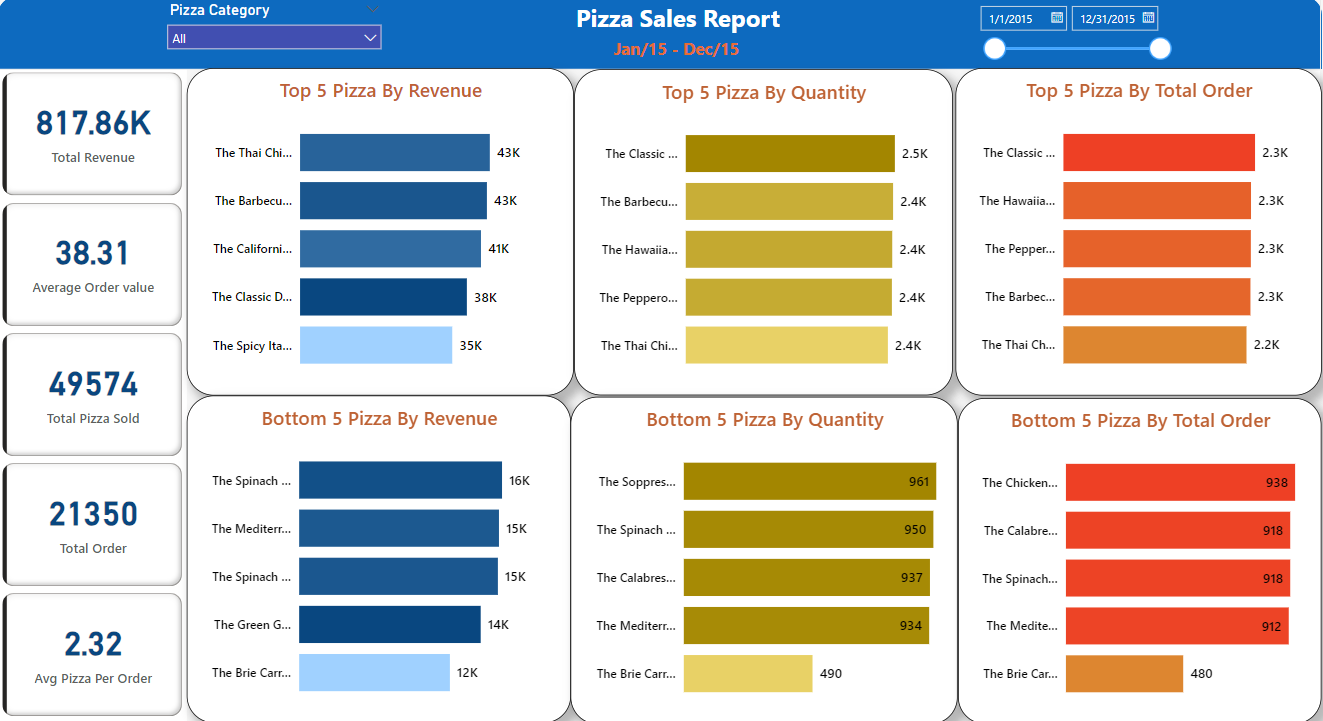

The page's visual inventory and layout, read from the dashboard file:
{"tool":"powerbi","page":{"name":"Top & Bottom Pizza Sales","canvas":[1500,820],"ordinal":1},"visuals":[{"type":"cardVisual","fields":{"Data":["pizzas.Total Revenue","pizzas.Average Order value","pizzas.Total Pizza Sold","pizzas.Total Order","pizzas.Avg Pizza Per Order"]},"box":[11.3,88.4,210.7,730.1],"z":0},{"type":"shape","box":[11.3,9.6,1474.6,80.4],"z":1000},{"type":"textbox","box":[631.9,10.1,279.7,52.2],"z":2000},{"type":"textbox","box":[691.3,50.7,184.1,39.1],"z":3000},{"type":"barChart","title":"Top 5 Pizza By Revenue ","fields":{"Category":["pizzas.pizza_name"],"Y":["pizzas.Total Revenue"]},"box":[221.9,88.4,431,365],"z":4000},{"type":"slicer","fields":{"Values":["pizzas.pizza_category"]},"box":[189.3,9.7,258.9,80.7],"z":5000},{"type":"slicer","fields":{"Values":["pizzas.order_date"]},"box":[1092.9,9.7,233.9,80.7],"z":6000},{"type":"barChart","title":"Top 5 Pizza By Quantity","fields":{"Category":["pizzas.pizza_name"],"Y":["Sum(pizzas.quantity)"]},"box":[652.9,90.5,421.8,363.4],"z":7000},{"type":"barChart","title":"Top 5 Pizza By Total Order","fields":{"Category":["pizzas.pizza_name"],"Y":["pizzas.Total Order"]},"box":[1077.6,89.1,407.9,364.8],"z":8000},{"type":"barChart","title":"Bottom 5 Pizza By Revenue ","fields":{"Category":["pizzas.pizza_name"],"Y":["pizzas.Total Revenue"]},"box":[221.9,453.5,427.7,365],"z":9000},{"type":"barChart","title":"Bottom 5 Pizza By Quantity","fields":{"Category":["pizzas.pizza_name"],"Y":["Sum(pizzas.quantity)"]},"box":[648.8,455.2,431.6,364.8],"z":10000},{"type":"barChart","title":"Bottom 5 Pizza By Total Order","fields":{"Category":["pizzas.pizza_name"],"Y":["pizzas.Total Order"]},"box":[1080.3,456.6,405.1,363.4],"z":11000}]}

Visuals, with their boxes in screenshot pixels (x1, y1, x2, y2), scaled from the page's 1500x820 canvas onto the 1323x721 screenshot:
cardVisual - pizzas.Total Revenue x pizzas.Average Order value: <region>10, 78, 196, 720</region>
shape: <region>10, 8, 1311, 79</region>
textbox: <region>557, 9, 804, 55</region>
textbox: <region>610, 45, 772, 79</region>
"Top 5 Pizza By Revenue " barChart: <region>196, 78, 576, 399</region>
slicer - pizzas.pizza_category: <region>167, 9, 395, 79</region>
slicer - pizzas.order_date: <region>964, 9, 1170, 79</region>
"Top 5 Pizza By Quantity" barChart: <region>576, 80, 948, 399</region>
"Top 5 Pizza By Total Order" barChart: <region>950, 78, 1310, 399</region>
"Bottom 5 Pizza By Revenue " barChart: <region>196, 399, 573, 720</region>
"Bottom 5 Pizza By Quantity" barChart: <region>572, 400, 953, 720</region>
"Bottom 5 Pizza By Total Order" barChart: <region>953, 401, 1310, 720</region>
